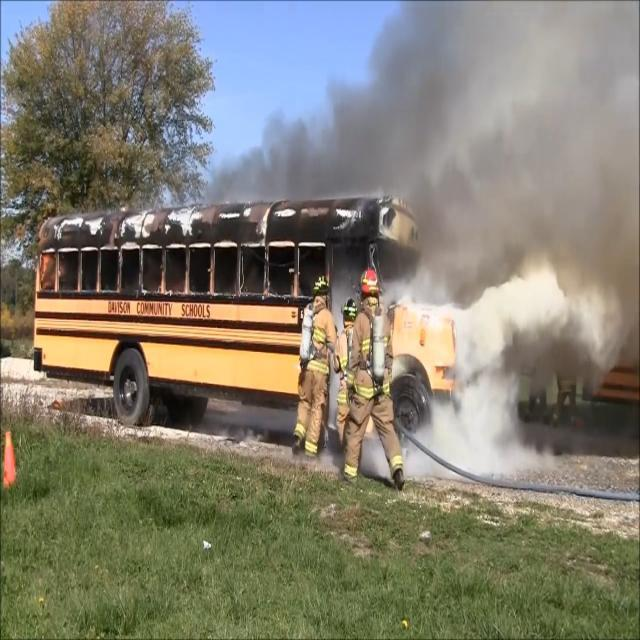Smoke: (464, 38, 637, 452)
